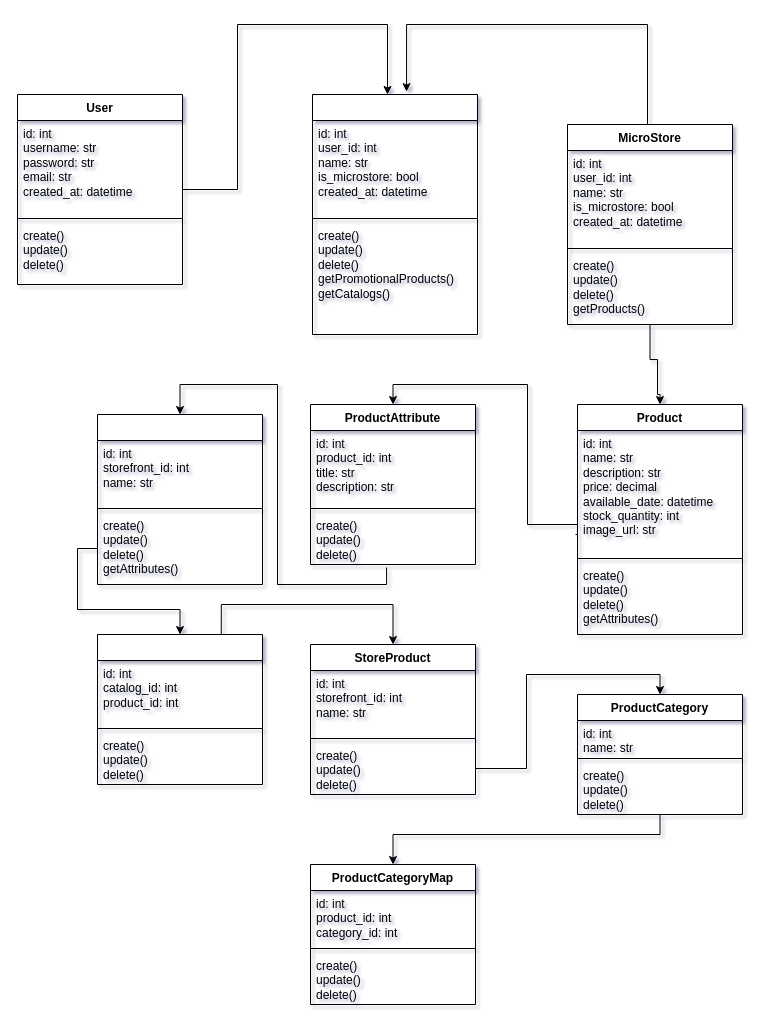
This 766x1031 diagram has some shape labels left out. Here are the shapes that lost their labels. From the top down, the box of each, then its label:
(312, 94, 478, 334): Storefront
(96, 414, 262, 584): Catalog
(96, 634, 262, 784): CatalogProduct
